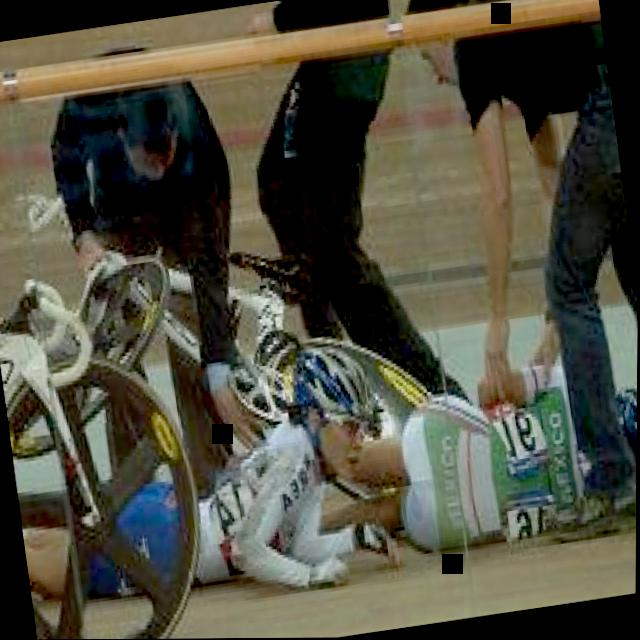Fall-Detected: (285, 301, 638, 577)
